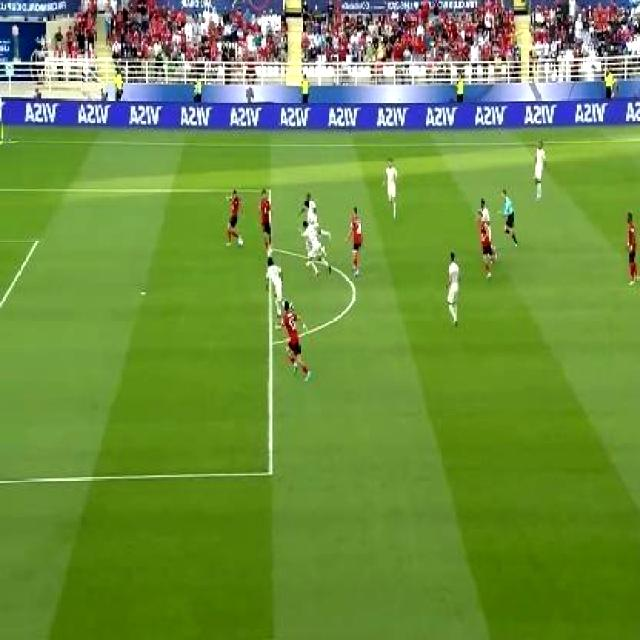bigarea_bottom_inner: (263, 460, 279, 482)
bigarea_top_inner: (266, 183, 276, 197)
bottom_arc_area_intersection: (263, 335, 280, 351)
corner: (0, 137, 9, 145)
smallarea_top_inner: (32, 232, 43, 250)
